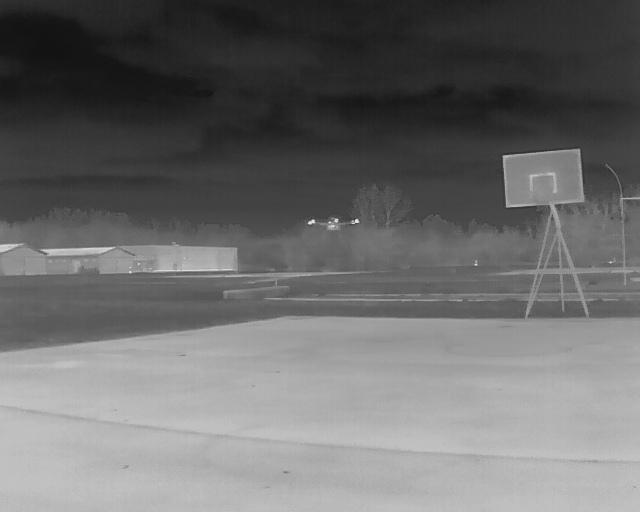drone: (301, 208, 364, 258)
